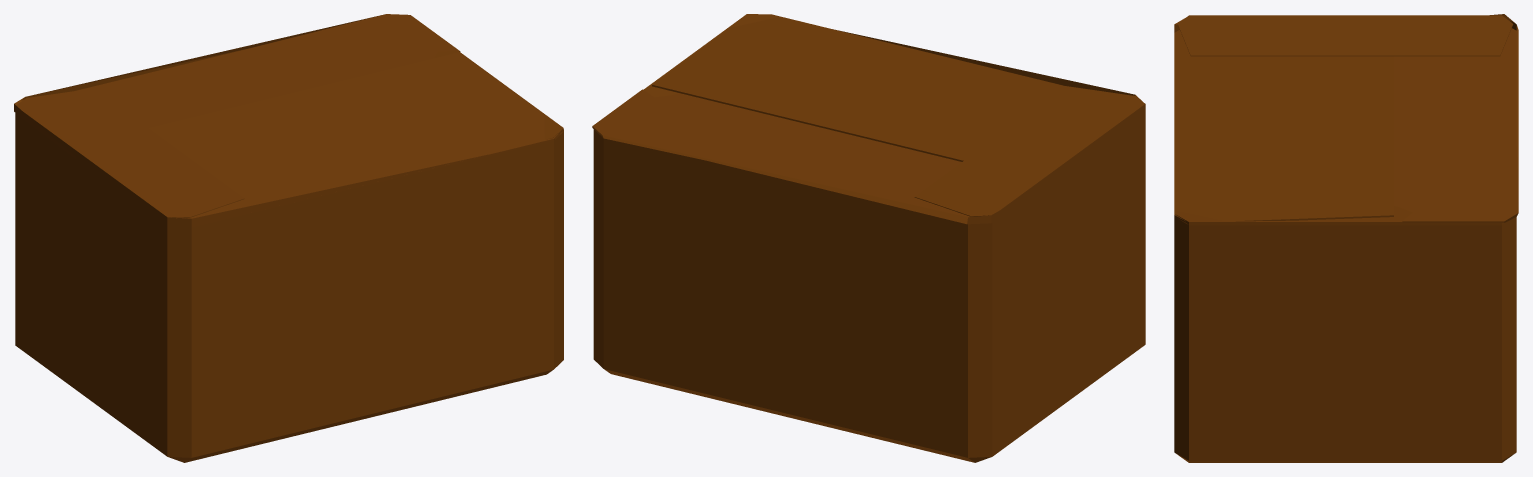
File: BoxTwo.glb
3 renders of one model, left to right at view 1: azimuth 30°, elevation 25°; view 2: azimuth 150°, elevation 25°; view 3: azimuth 270°, elevation 25°, orthographic. The views are drawn at different scales.
Parts seen in each view (by area): view 1: Box 2; view 2: Box 2; view 3: Box 2.
Boxes of the visible parts, x1,y1,x2,y2 form: Box 2: (14,14,563,462); Box 2: (592,14,1145,462); Box 2: (1174,14,1518,462).
Bounding box in the file's own units: 3.47 × 2.1 × 2.54.
